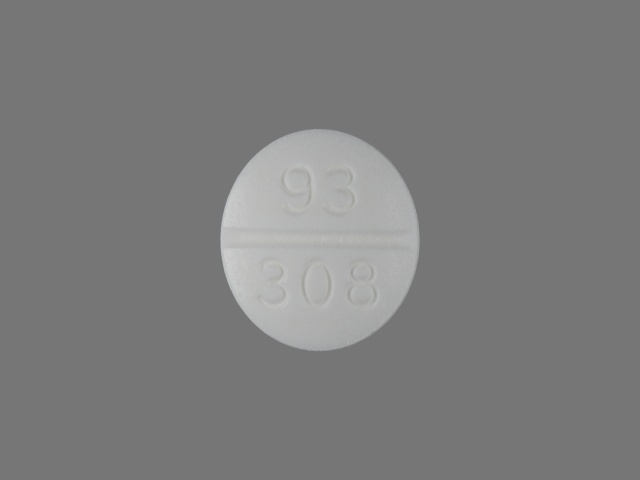0: (300, 254, 333, 313)
3: (320, 165, 357, 222), (257, 256, 291, 310)
8: (345, 256, 380, 311)
9: (279, 164, 315, 219)
|: (218, 223, 417, 256)
